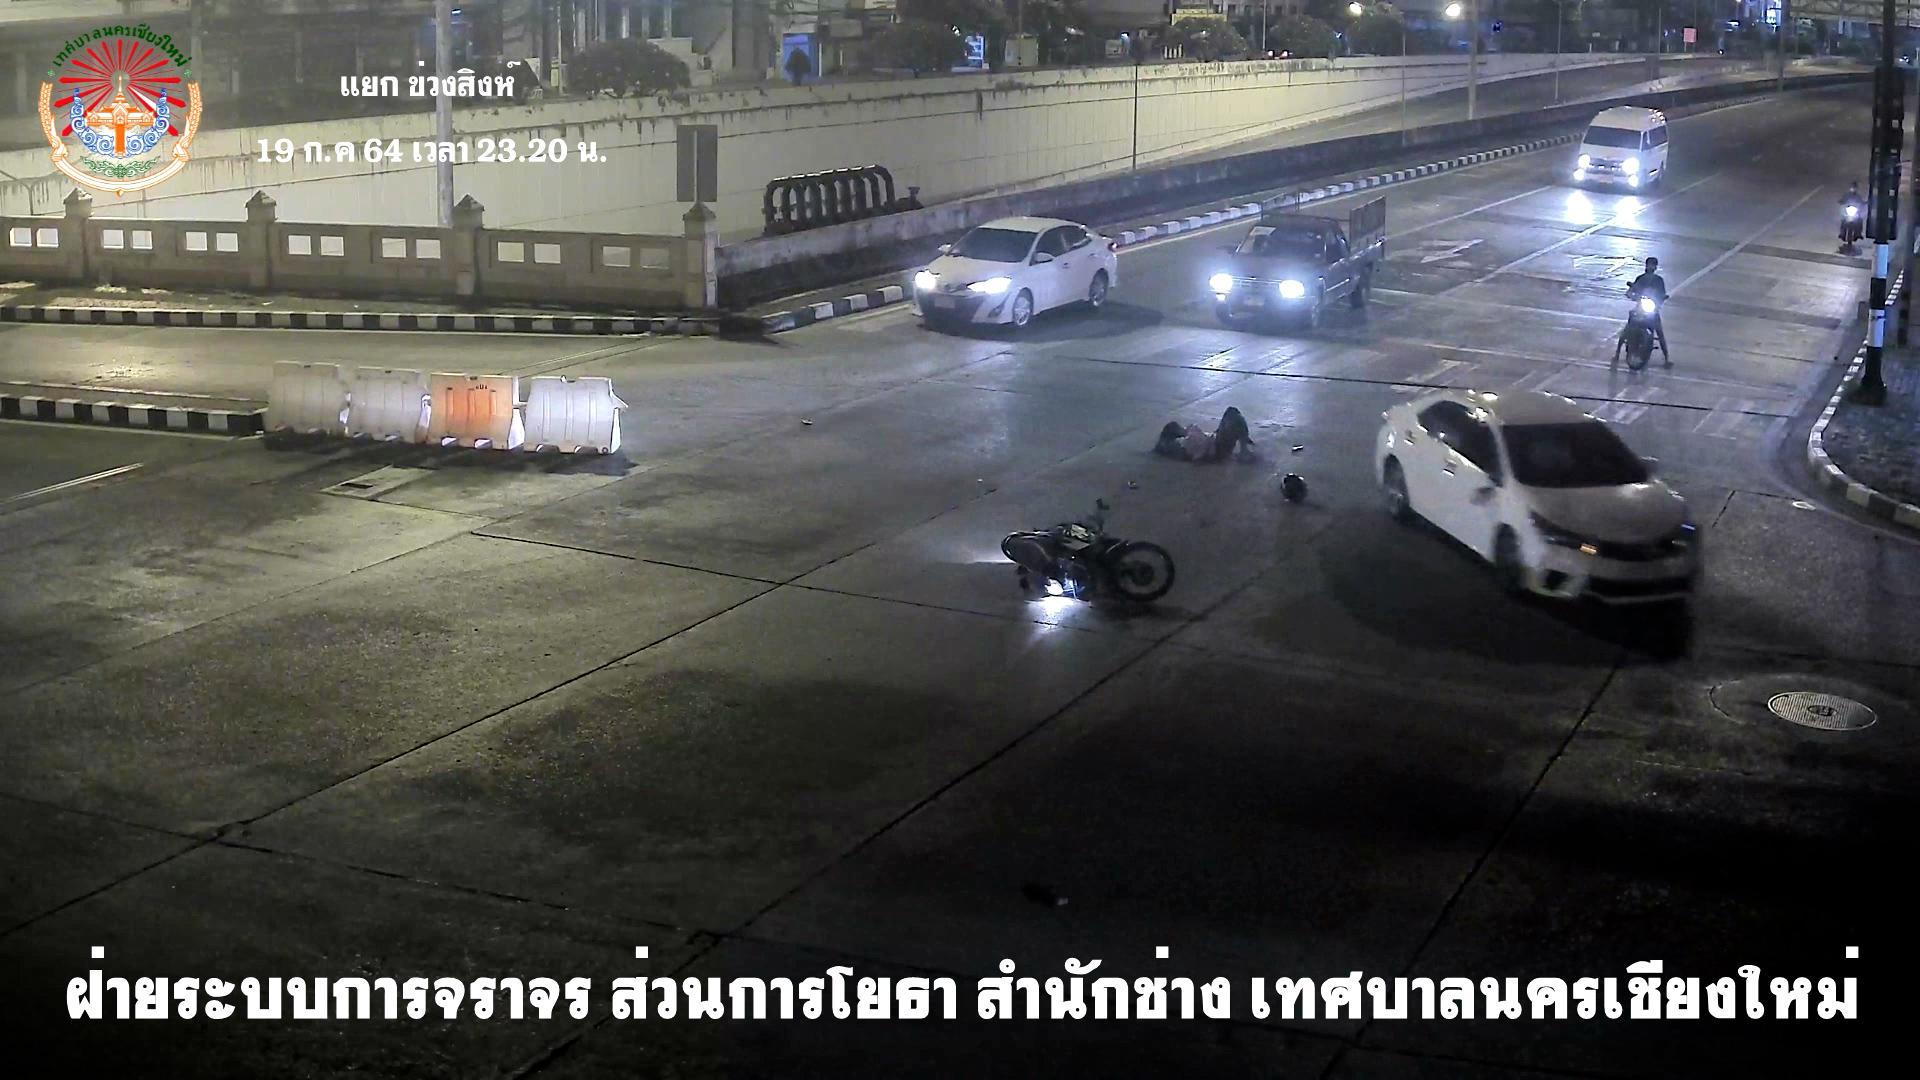accident: (1155, 396, 1261, 467)
